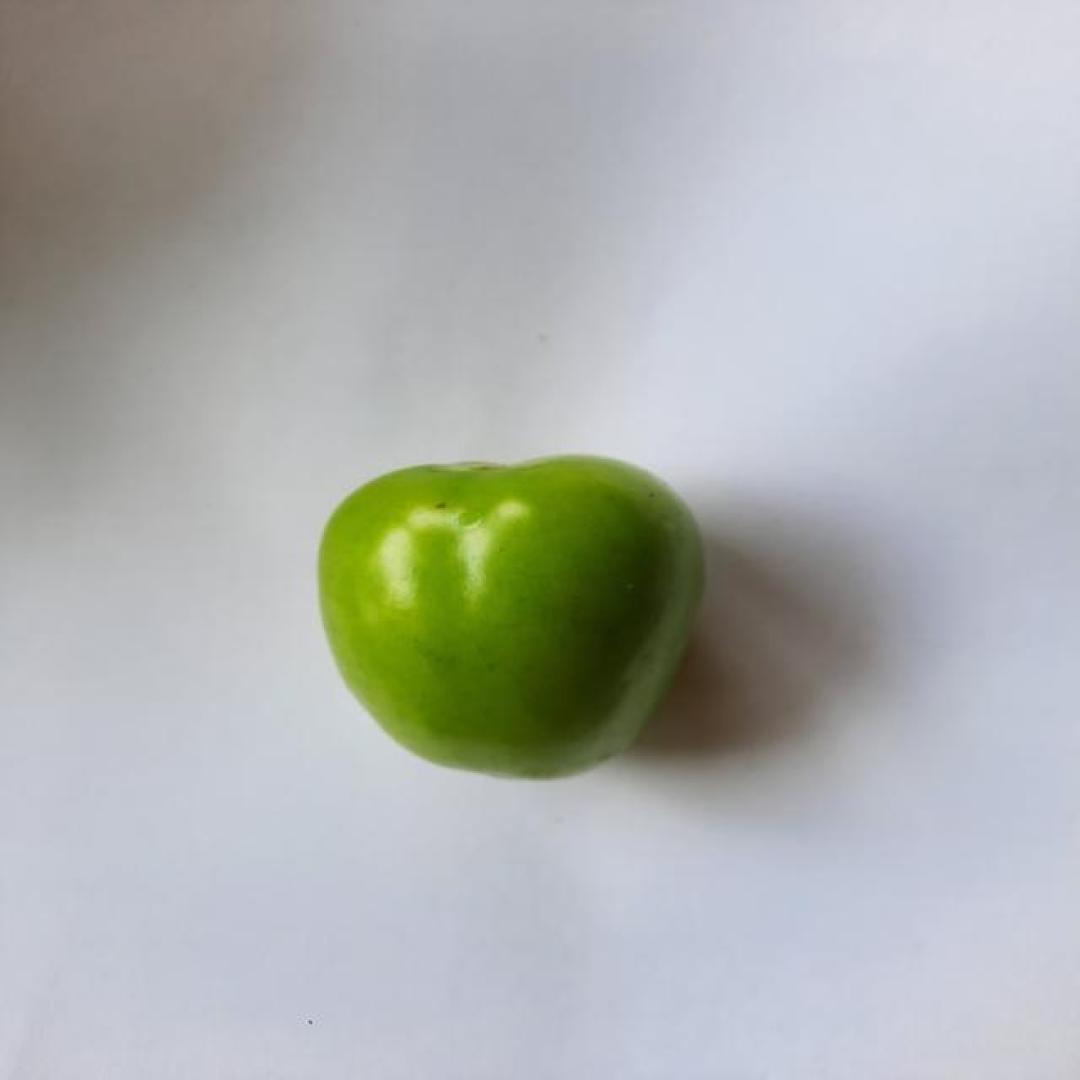mentah: (312, 454, 710, 785)
